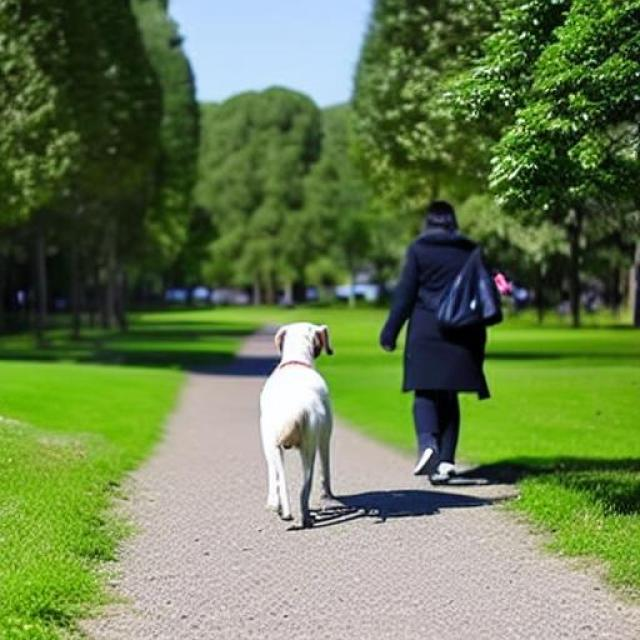Unleashed_Dog: (259, 317, 460, 529)
